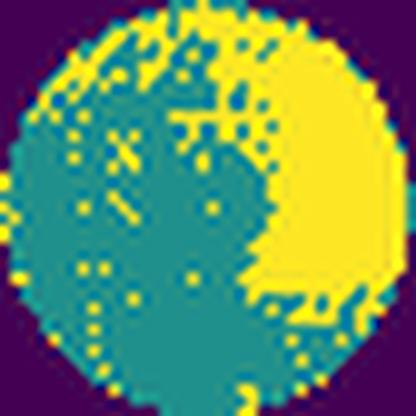Edge-Loc: (47, 8, 415, 341)
